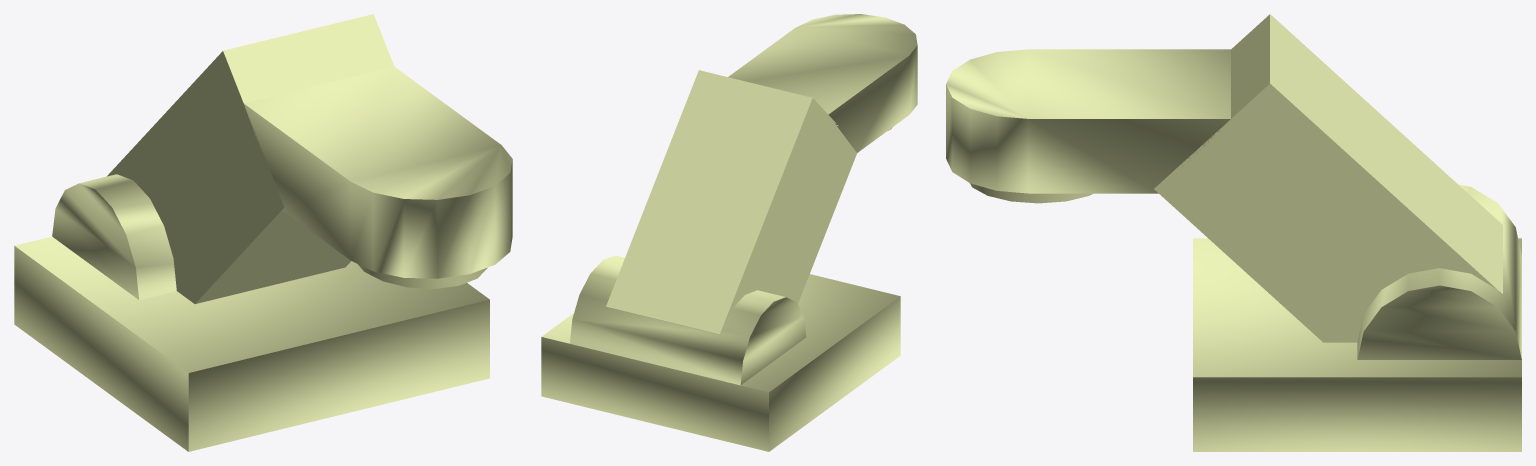
File: dropper.fbx
The picture shows the model from 3 angles, left to right: view 1: azimuth 30°, elevation 25°; view 2: azimuth 150°, elevation 25°; view 3: azimuth 270°, elevation 25°; orthographic projection. The views are drawn at different scales.
Parts seen in each view (by area): view 1: base, head, arm, support, dropper; view 2: arm, base, head, support; view 3: arm, base, head, support, dropper.
Part boxes in pixels (left/top/right/bottom): base: left=14, top=236, right=489, bottom=451; head: left=243, top=66, right=512, bottom=278; arm: left=107, top=14, right=394, bottom=303; support: left=52, top=174, right=176, bottom=299; dropper: left=358, top=264, right=487, bottom=288; arm: left=606, top=70, right=856, bottom=334; base: left=541, top=274, right=900, bottom=451; head: left=728, top=14, right=917, bottom=152; support: left=570, top=255, right=806, bottom=385; arm: left=1154, top=14, right=1502, bottom=342; base: left=1193, top=238, right=1521, bottom=451; head: left=946, top=49, right=1230, bottom=193; support: left=1357, top=184, right=1521, bottom=359; dropper: left=970, top=183, right=1092, bottom=203.
Bounding box in the file's own units: 32 × 56 × 35.8.
